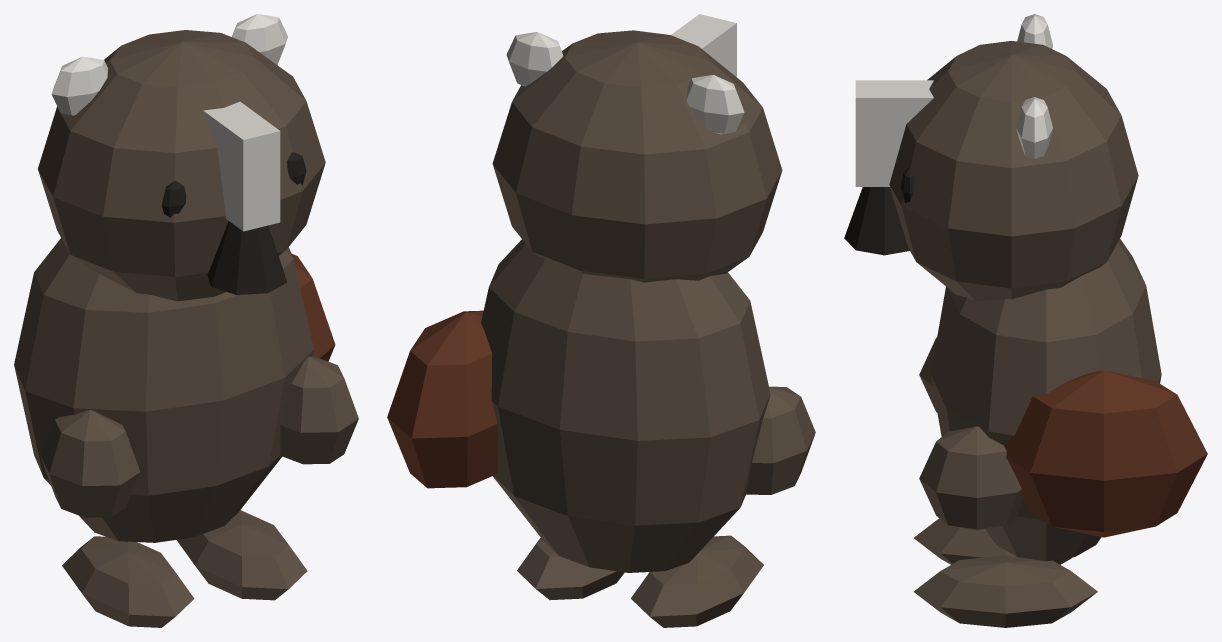
Rendered from badger.glb.
3 views of the same model, side by side, from view 1: azimuth 30°, elevation 25°; view 2: azimuth 150°, elevation 25°; view 3: azimuth 270°, elevation 25° (orthographic). The views are drawn at different scales.
Parts seen in each view (by area): view 1: Body_mesh; view 2: Body_mesh; view 3: Body_mesh.
Part boxes in pixels (bbox=[...]): Body_mesh: bbox=[14, 14, 358, 627]; Body_mesh: bbox=[387, 14, 815, 627]; Body_mesh: bbox=[844, 14, 1207, 627].
Bounding box in the file's own units: 0.3212 × 0.515 × 0.315.
